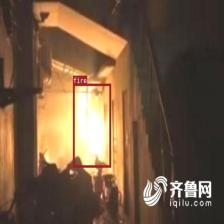fire: (72, 83, 110, 167)
